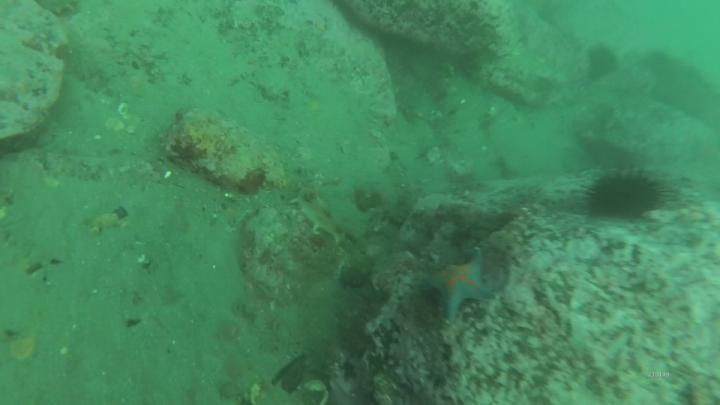echinus: (591, 171, 666, 221), (592, 43, 618, 76)
holothurian: (295, 186, 350, 242)
starfish: (427, 247, 495, 322)
